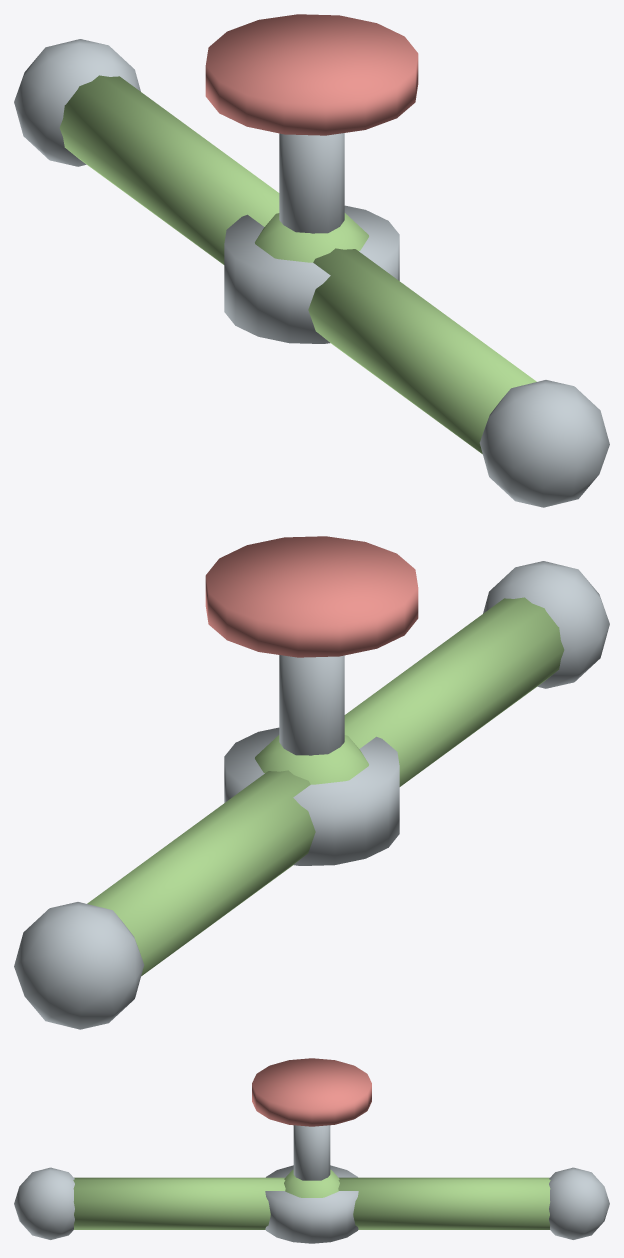
The model's file is pipe_valve_standard.glb.
3 renders of one model, top to bottom at view 1: azimuth 30°, elevation 25°; view 2: azimuth 150°, elevation 25°; view 3: azimuth 270°, elevation 25°, orthographic. The views are drawn at different scales.
Parts seen in each view (by area): view 1: Conduit_green, Valve_red, Coupler_steel, JunctionCap_steel, Valve_steel, Junction_green; view 2: Conduit_green, Valve_red, Coupler_steel, JunctionCap_steel, Valve_steel, Junction_green; view 3: Conduit_green, Coupler_steel, Valve_red, JunctionCap_steel, Valve_steel, Junction_green.
Part boxes in pixels (x1,y1,x2,y2): Conduit_green: [59, 75, 536, 454]; Valve_red: [205, 14, 418, 135]; Coupler_steel: [14, 39, 609, 507]; JunctionCap_steel: [224, 205, 399, 343]; Valve_steel: [279, 133, 344, 233]; Junction_green: [255, 213, 368, 262]; Conduit_green: [87, 597, 564, 976]; Valve_red: [205, 536, 418, 657]; Coupler_steel: [14, 561, 609, 1029]; JunctionCap_steel: [224, 727, 399, 865]; Valve_steel: [279, 655, 344, 755]; Junction_green: [255, 735, 368, 784]; Conduit_green: [73, 1177, 550, 1229]; Coupler_steel: [14, 1167, 609, 1239]; Valve_red: [252, 1058, 371, 1126]; JunctionCap_steel: [265, 1165, 358, 1243]; Valve_steel: [293, 1125, 330, 1180]; Junction_green: [284, 1169, 339, 1197].
Bounding box in the file's own units: 0.46 × 0.6575 × 2.28.
